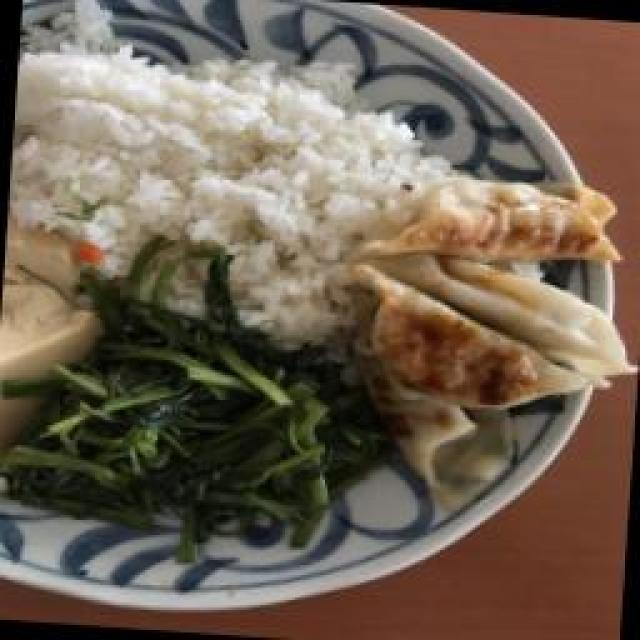fried_dumplings: (367, 178, 605, 461)
rice: (8, 57, 353, 295)
water_spinach: (93, 312, 326, 510)
